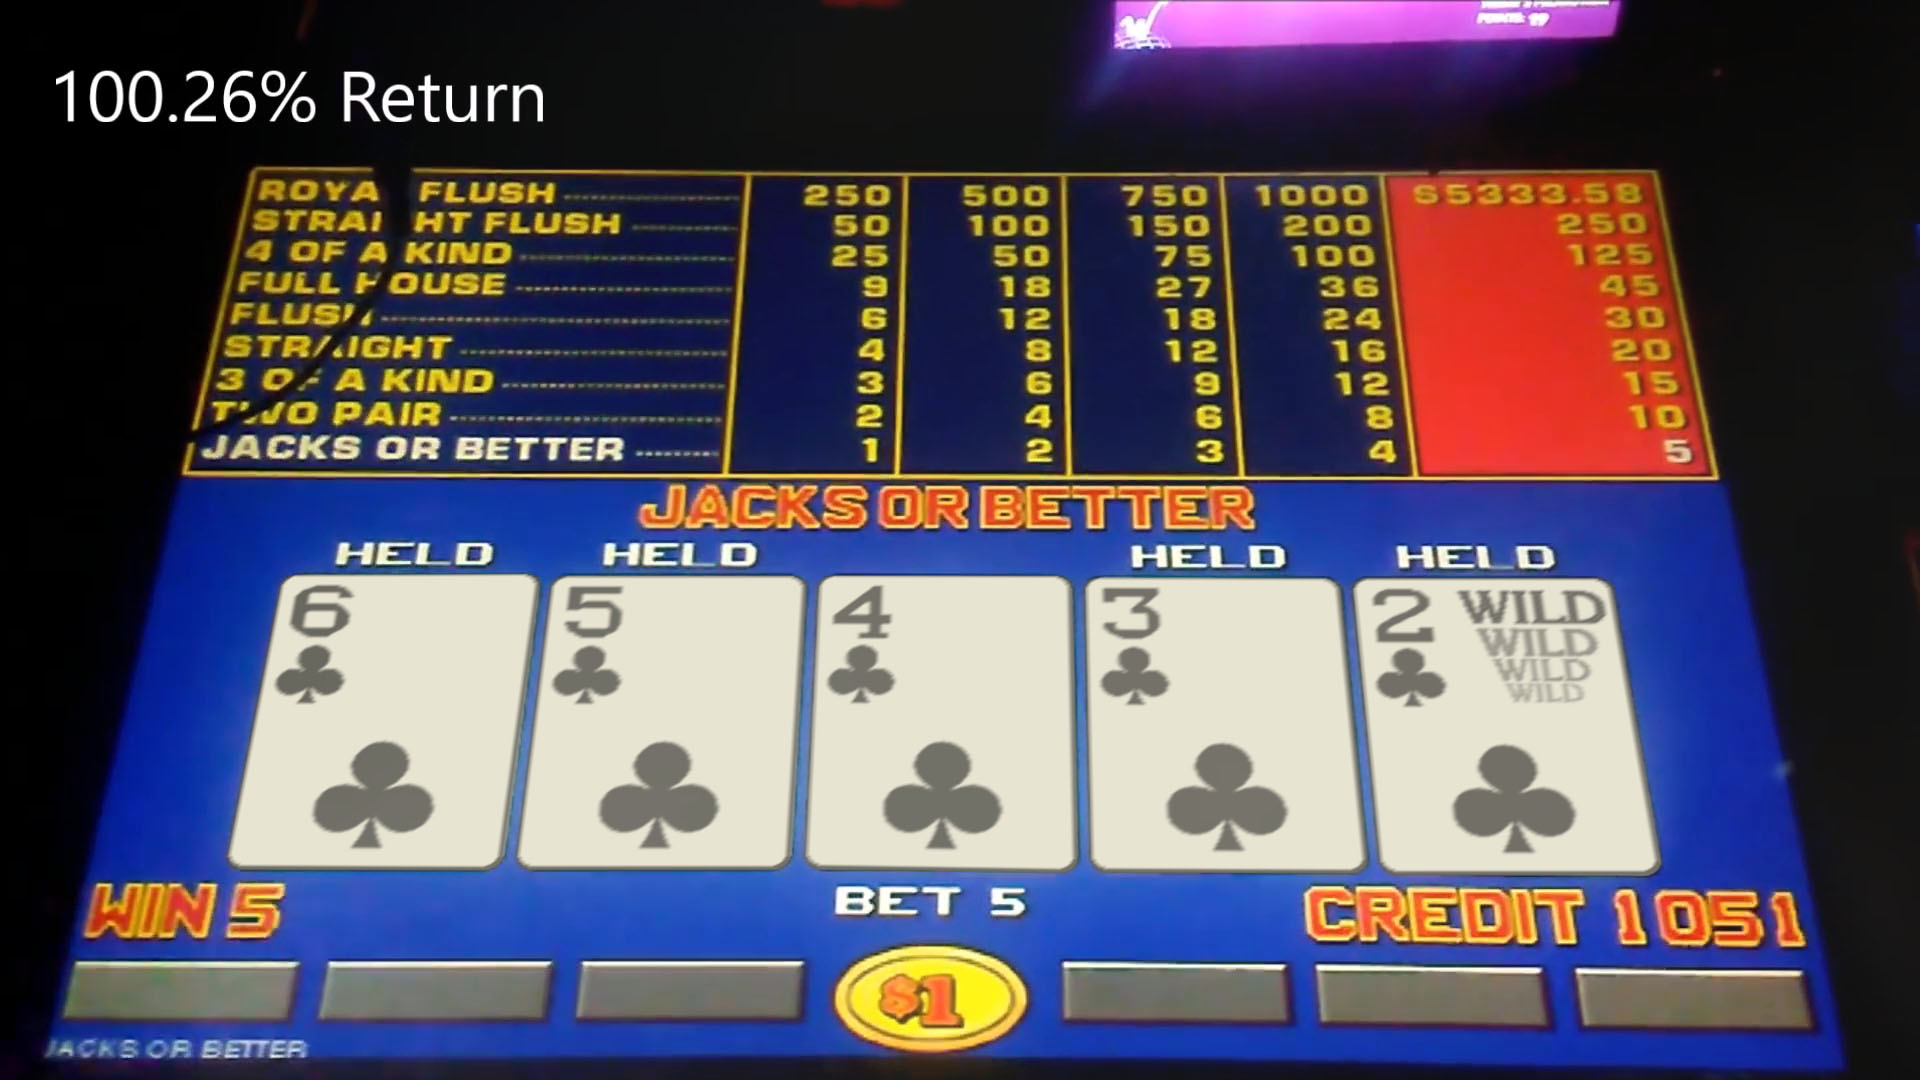C2W: (1373, 582, 1625, 872)
C3: (1091, 580, 1348, 872)
C4: (811, 575, 1076, 869)
C5: (546, 575, 795, 866)
C6: (266, 576, 506, 865)
